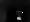person: (17, 9, 23, 20)
